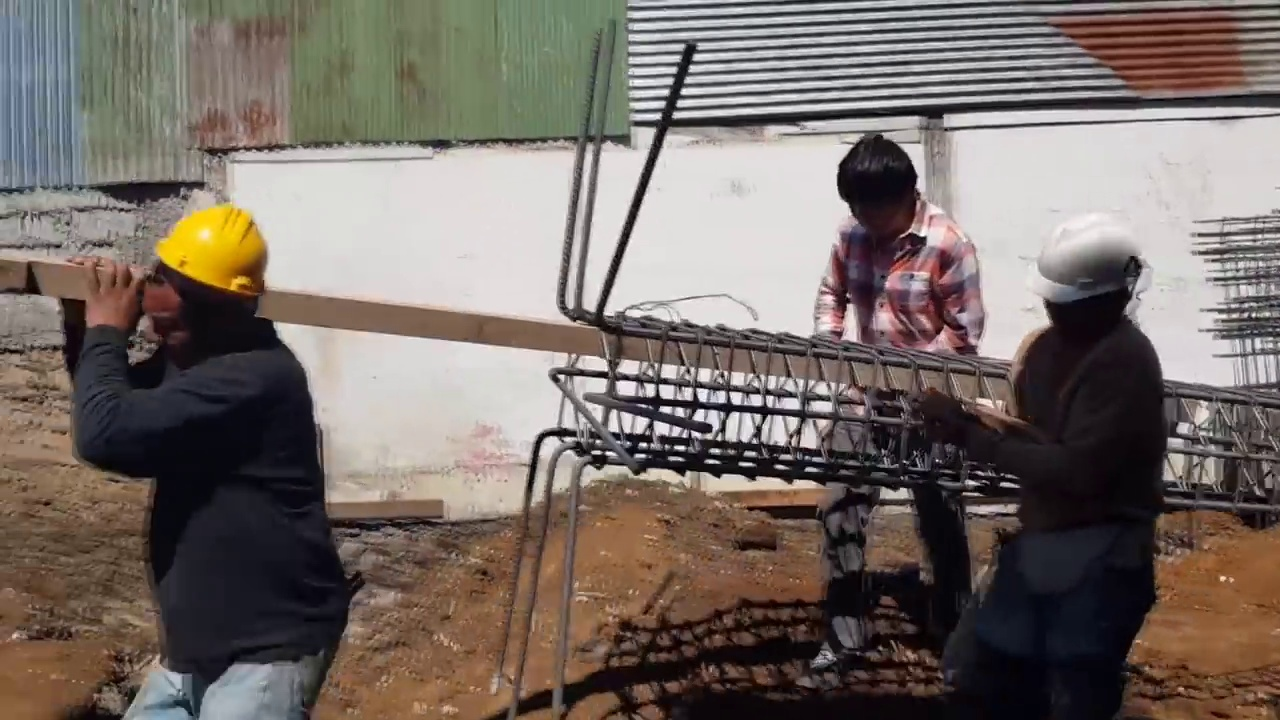helmet: (140, 204, 263, 300), (1027, 226, 1154, 306)
helmet-off: (833, 133, 928, 251)
helmet-on: (138, 198, 270, 370), (1029, 216, 1159, 351)
person: (46, 192, 361, 720), (951, 217, 1171, 717), (816, 130, 984, 683)
